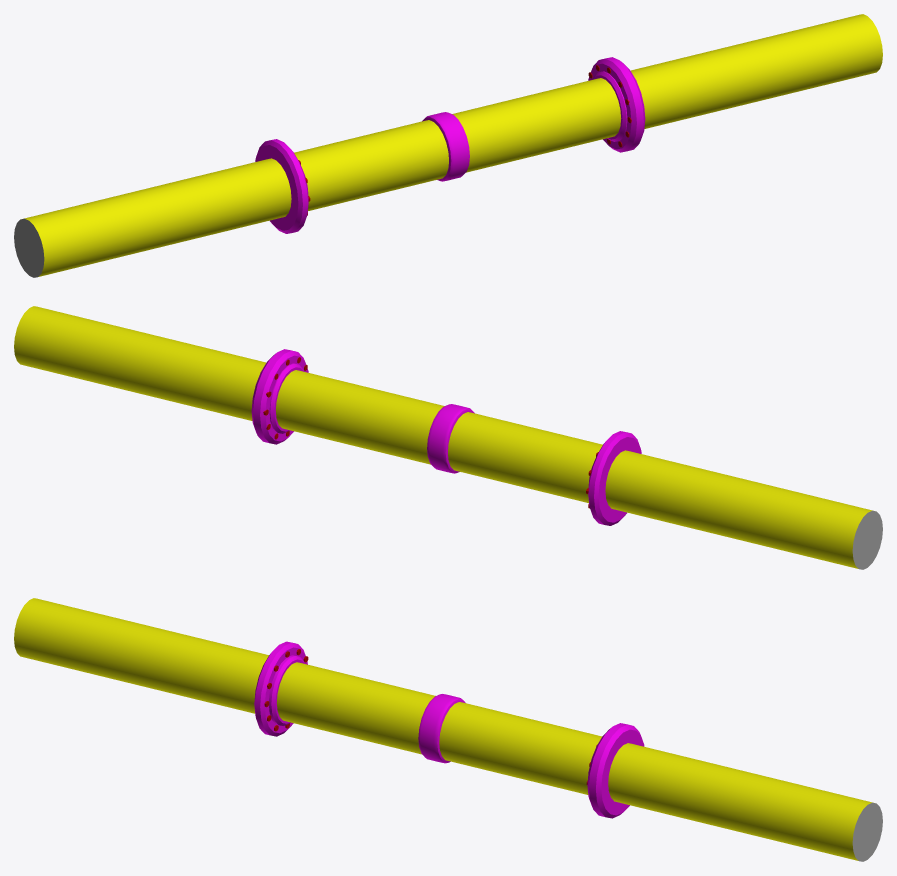
Rendered from SmallLongPipe.fbx.
3 views of the same model, one above another, from view 1: azimuth 30°, elevation 25°; view 2: azimuth 150°, elevation 25°; view 3: azimuth 330°, elevation 25° (orthographic).
Visible parts, largest first — view 1: Pipe, Outer1, Outer, Grip, Inner; view 2: Pipe, Outer1, Outer, Grip, Inner; view 3: Pipe, Outer, Outer1, Grip, Inner1.
Boxes of the visible parts, left/top/right/bottom form: Pipe: left=14, top=14, right=882, bottom=277; Outer1: left=255, top=139, right=308, bottom=233; Outer: left=588, top=57, right=645, bottom=152; Grip: left=422, top=112, right=469, bottom=181; Inner: left=593, top=71, right=627, bottom=141; Pipe: left=14, top=306, right=882, bottom=569; Outer1: left=588, top=431, right=641, bottom=525; Outer: left=251, top=349, right=308, bottom=444; Grip: left=427, top=404, right=474, bottom=473; Inner: left=269, top=363, right=303, bottom=433; Pipe: left=14, top=598, right=882, bottom=861; Outer: left=587, top=723, right=644, bottom=818; Outer1: left=254, top=641, right=307, bottom=736; Grip: left=418, top=694, right=465, bottom=763; Inner1: left=269, top=655, right=304, bottom=725.
Bounding box in the file's own units: 398 × 39.6 × 39.6.
